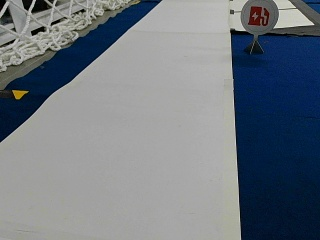battery: (239, 0, 279, 34)
